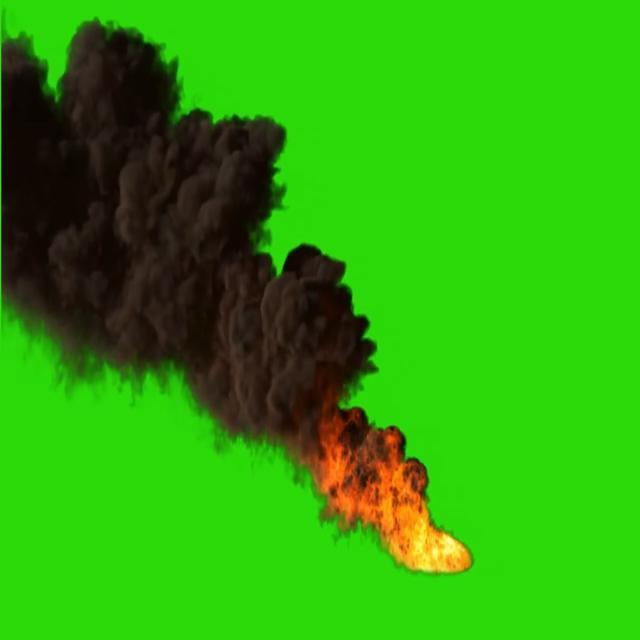Fire: (344, 446, 476, 580)
Smoke: (12, 26, 334, 434)
